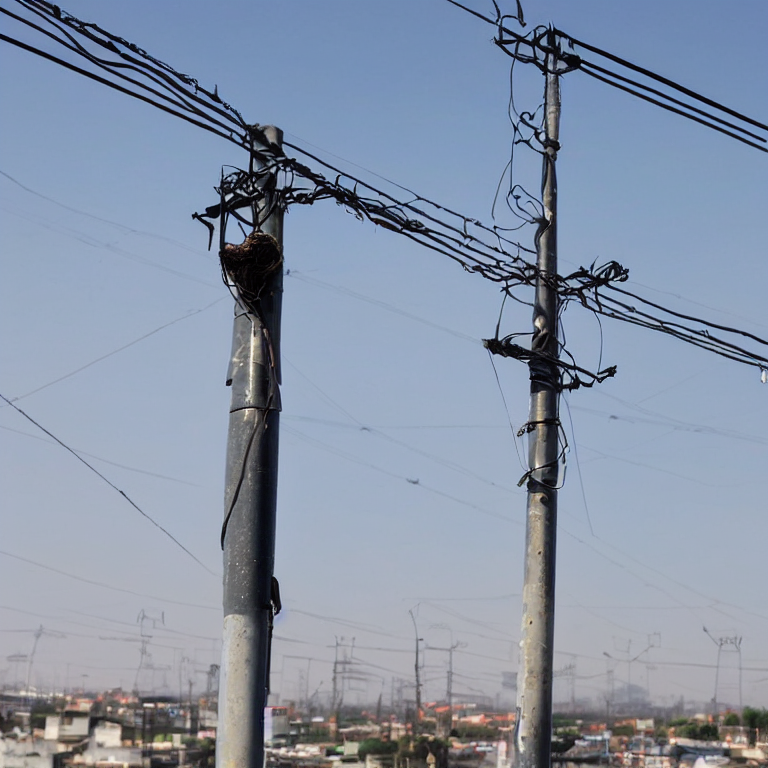nest: (226, 238, 286, 298)
